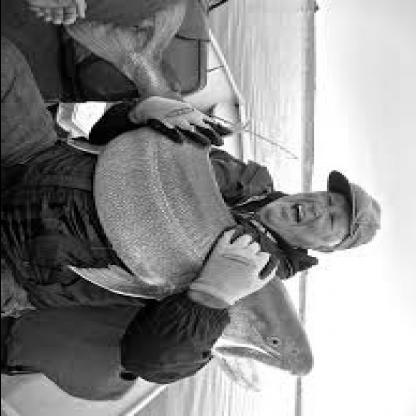fish: (72, 6, 316, 392)
